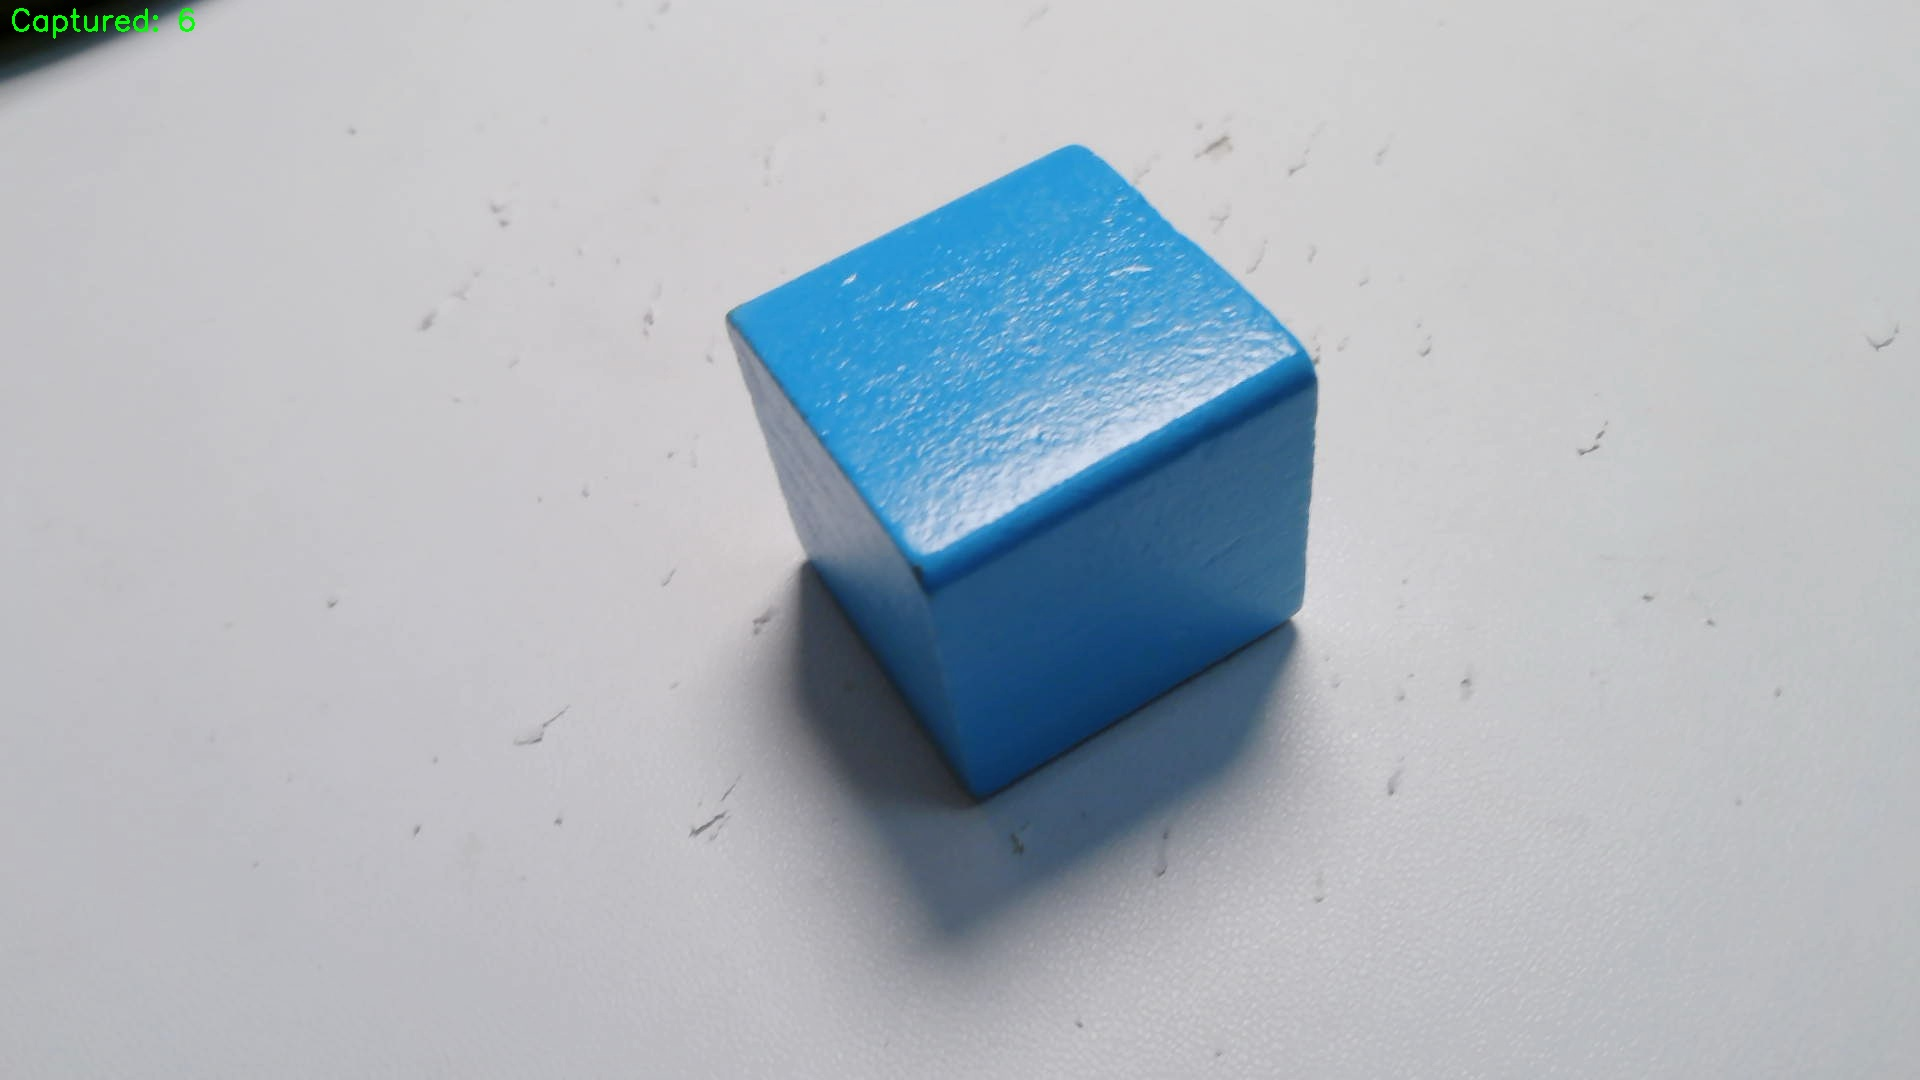blue: (728, 144, 1327, 804)
